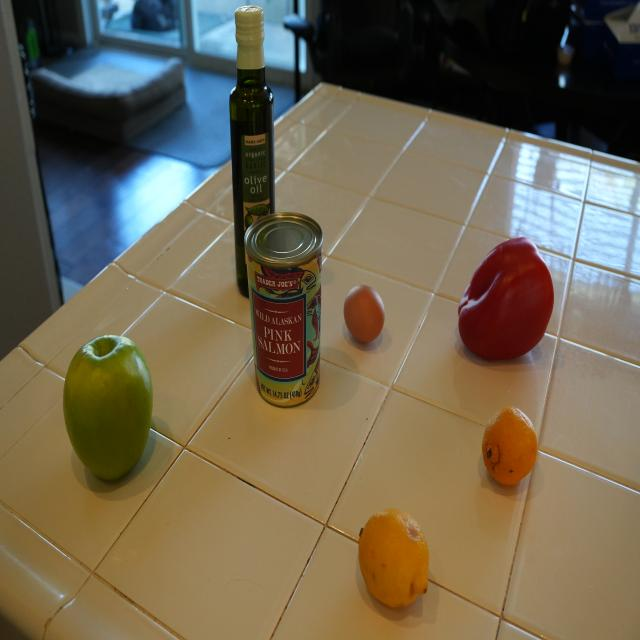bell_pepper: (442, 237, 577, 362)
egg: (341, 283, 391, 352)
